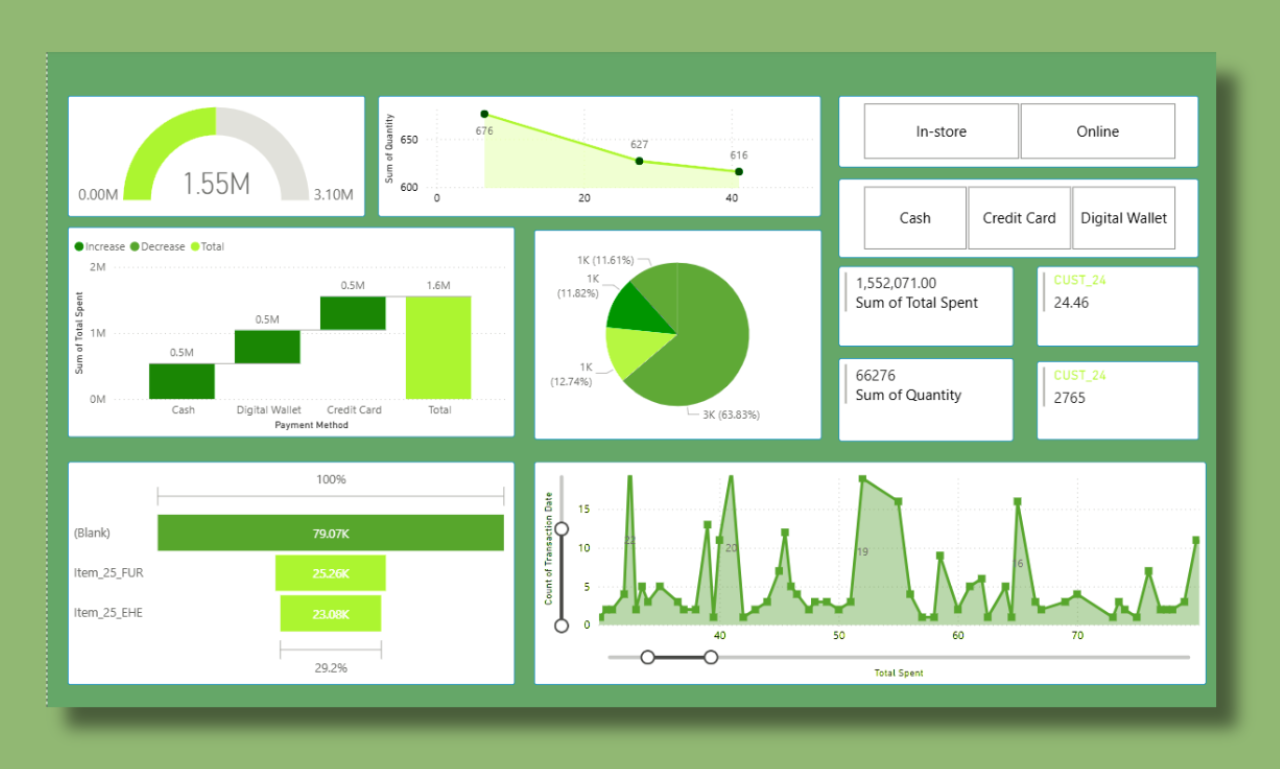

The dashboard page shown, as its layout file describes it:
{"tool":"powerbi","page":{"name":"Page 1","canvas":[1280,720],"ordinal":0},"visuals":[{"type":"waterfallChart","title":"Total Spent Per Payment Method","fields":{"Category":["retail_store_sales.Payment Method"],"Y":["Sum(retail_store_sales.Total Spent)"]},"box":[22.8,193.5,488.3,229],"z":0},{"type":"funnel","fields":{"Category":["retail_store_sales.Item"],"Y":["Sum(retail_store_sales.Total Spent)"]},"box":[22.8,449.6,488.3,243.4],"z":1000},{"type":"pieChart","fields":{"Category":["retail_store_sales.Item"],"Y":["Sum(retail_store_sales.Quantity)"]},"box":[532,198,313.7,228.7],"z":2000},{"type":"multiRowCard","fields":{"Values":["Sum(retail_store_sales.Quantity)"]},"box":[863.7,337.2,190.9,90.7],"z":3000},{"type":"multiRowCard","fields":{"Values":["Sum(retail_store_sales.Total Spent)"]},"box":[863.7,237,190.9,87.5],"z":4000},{"type":"slicer","fields":{"Values":["retail_store_sales.Payment Method"]},"box":[864.2,141,392.9,85.9],"z":5000},{"type":"stackedAreaChart","fields":{"Category":["retail_store_sales.Total Spent"],"Y":["CountNonNull(retail_store_sales.Transaction Date)"]},"box":[531.8,449.6,733.3,243.4],"z":6000},{"type":"multiRowCard","fields":{"Values":["Sum(retail_store_sales.Quantity)","retail_store_sales.Customer ID"]},"box":[1080,340.4,176.6,85.9],"z":7000},{"type":"multiRowCard","fields":{"Values":["retail_store_sales.Customer ID","Avg(retail_store_sales.Price Per Unit)"]},"box":[1080,237,176.6,87.5],"z":8000},{"type":"gauge","title":"Total Spent Per Payment Method","fields":{"Y":["Sum(retail_store_sales.Total Spent)"]},"box":[22.8,50.4,324.5,132],"z":9000},{"type":"areaChart","fields":{"Category":["retail_store_sales.Price Per Unit"],"Y":["Sum(retail_store_sales.Quantity)"]},"box":[361.6,50.4,483.5,132],"z":10000},{"type":"slicer","fields":{"Values":["retail_store_sales.Location"]},"box":[864.2,50.4,392.9,77.9],"z":11000}]}

Visuals, with their boxes on the page's 1280x720 design canvas (x1, y1, x2, y2). These are canvas units, not pixel positions in the 1280x769 screenshot, which may show the page scaled, cropped or inside an application window:
"Total Spent Per Payment Method" waterfallChart: (23,194,511,422)
funnel - retail_store_sales.Item x Sum(retail_store_sales.Total Spent): (23,450,511,693)
pieChart - retail_store_sales.Item x Sum(retail_store_sales.Quantity): (532,198,846,427)
multiRowCard - Sum(retail_store_sales.Quantity): (864,337,1055,428)
multiRowCard - Sum(retail_store_sales.Total Spent): (864,237,1055,324)
slicer - retail_store_sales.Payment Method: (864,141,1257,227)
stackedAreaChart - retail_store_sales.Total Spent x CountNonNull(retail_store_sales.Transaction Date): (532,450,1265,693)
multiRowCard - Sum(retail_store_sales.Quantity) x retail_store_sales.Customer ID: (1080,340,1257,426)
multiRowCard - retail_store_sales.Customer ID x Avg(retail_store_sales.Price Per Unit): (1080,237,1257,324)
"Total Spent Per Payment Method" gauge: (23,50,347,182)
areaChart - retail_store_sales.Price Per Unit x Sum(retail_store_sales.Quantity): (362,50,845,182)
slicer - retail_store_sales.Location: (864,50,1257,128)
